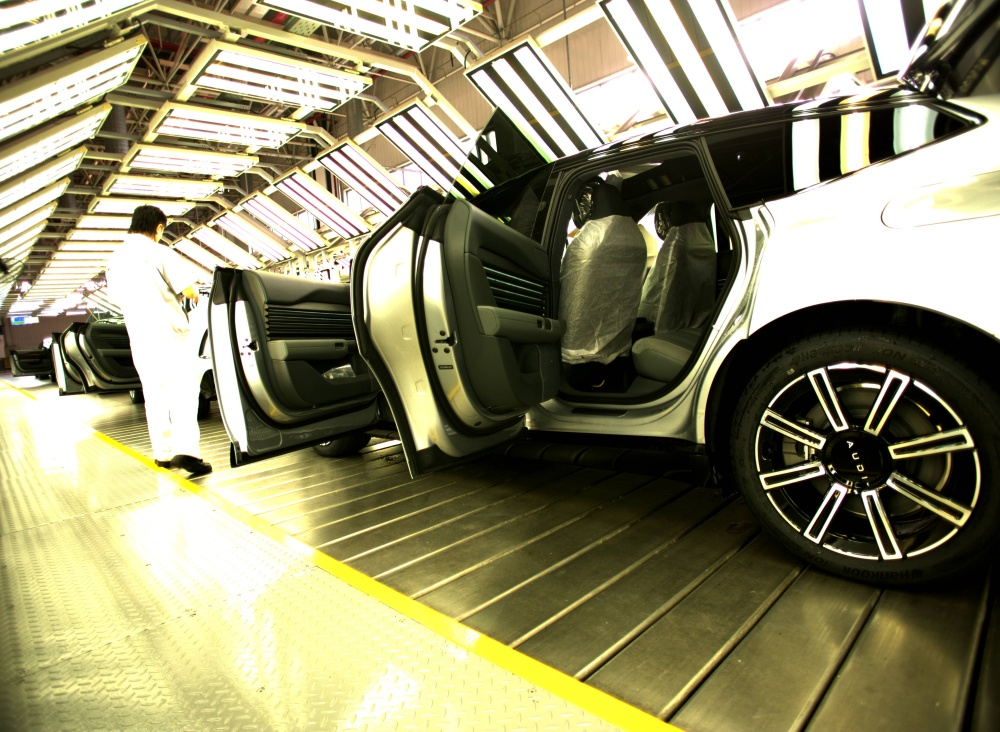armrest_color: (478, 311, 564, 356), (263, 338, 355, 362)
panel_color: (479, 258, 549, 317), (265, 299, 350, 336)
